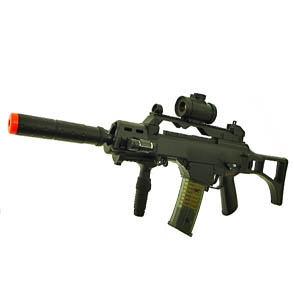rifle: (3, 91, 294, 250)
